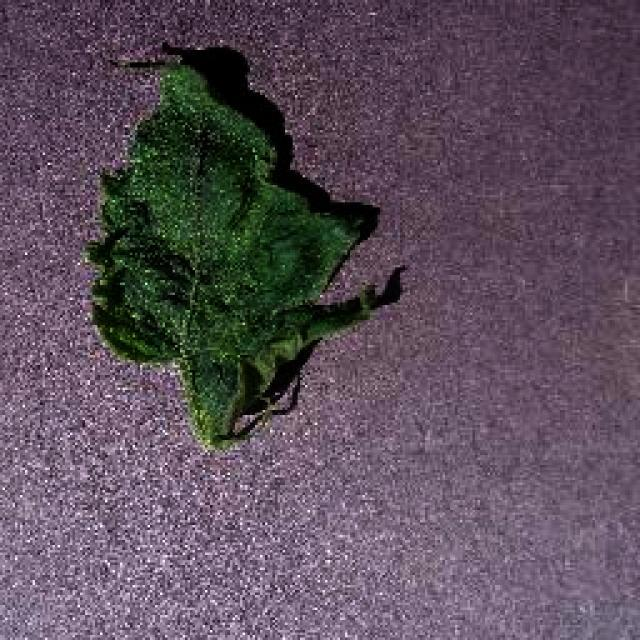Tomato mosaic virus leaf: (82, 46, 386, 428)
